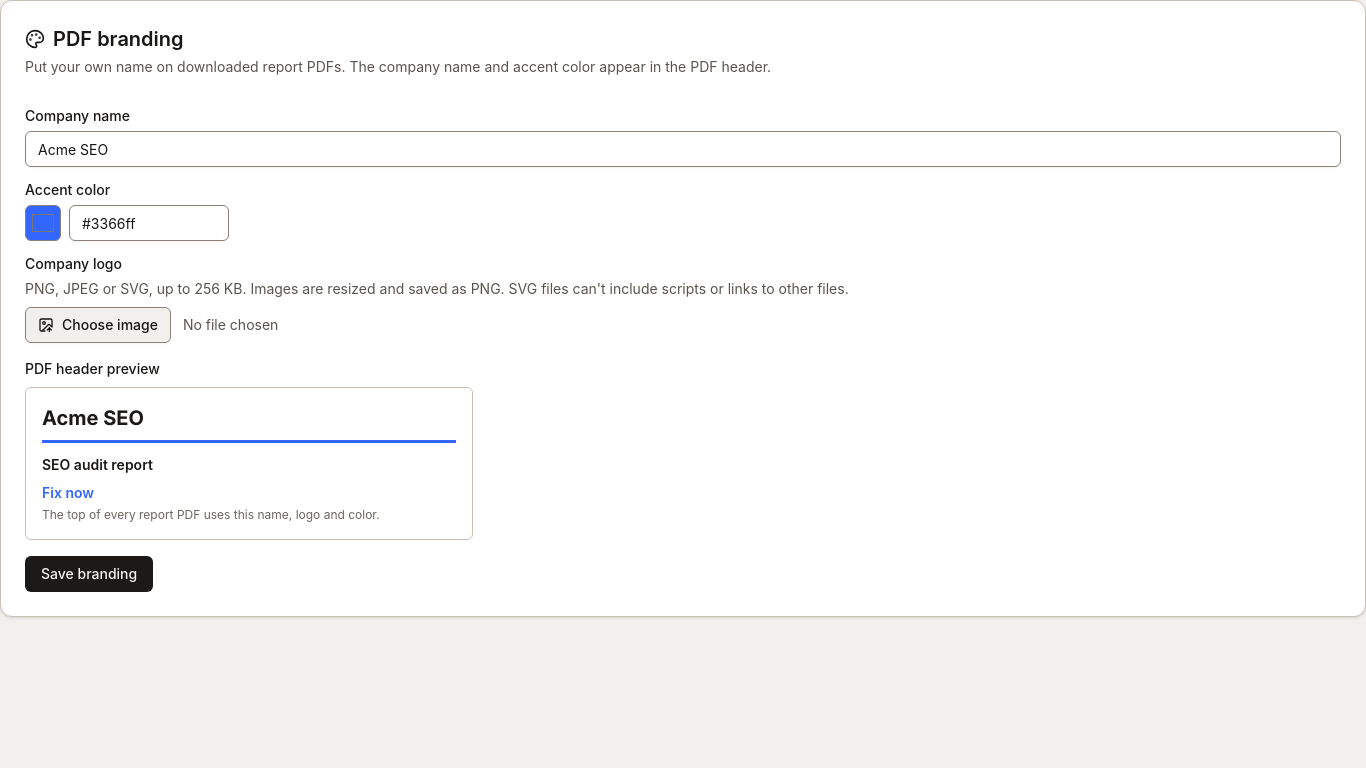
it: BrandingPanel › saves trimmed values and confirms
Replace the text in the field labelled "Company name" with "  New Name  " at (683, 149), box [25,131,1341,167]
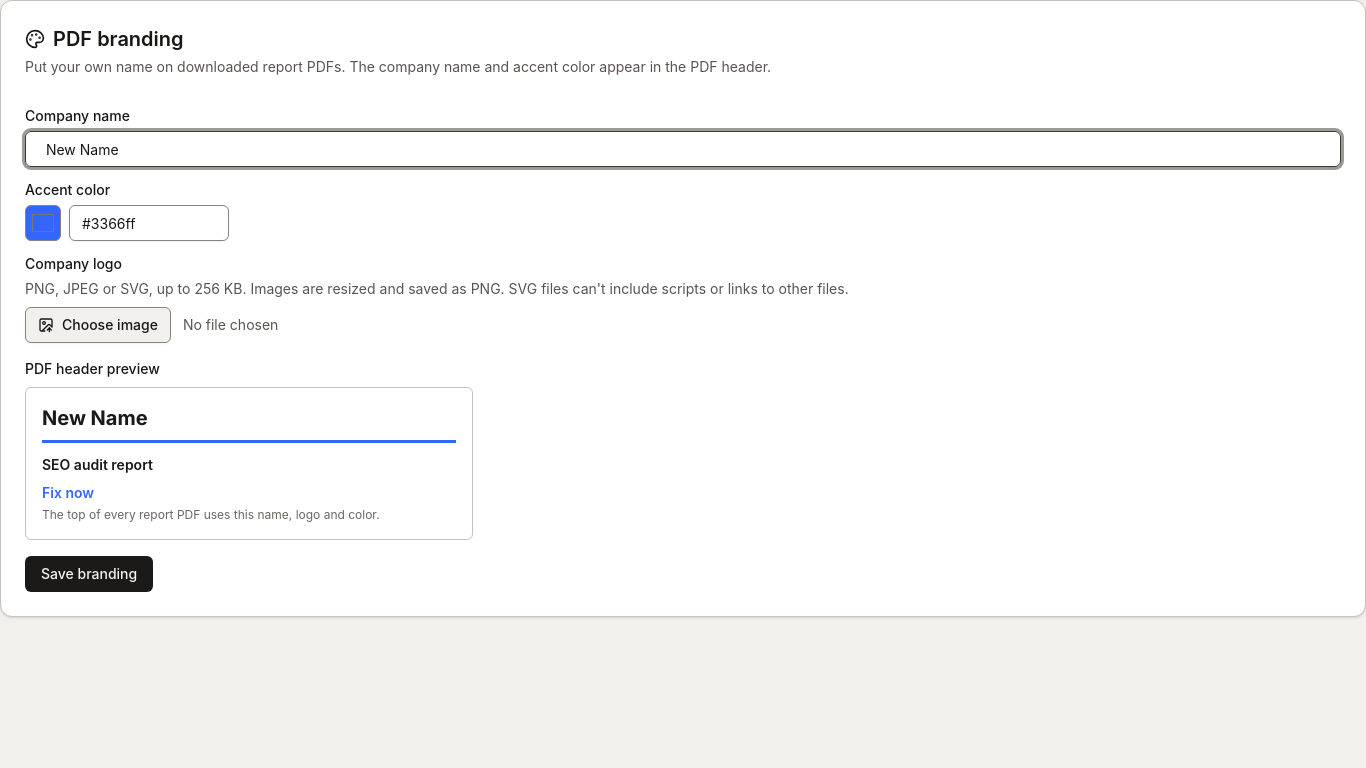
Replace the text in the field labelled "Accent color" with "#b5321e" at (149, 223), box [69,205,229,241]
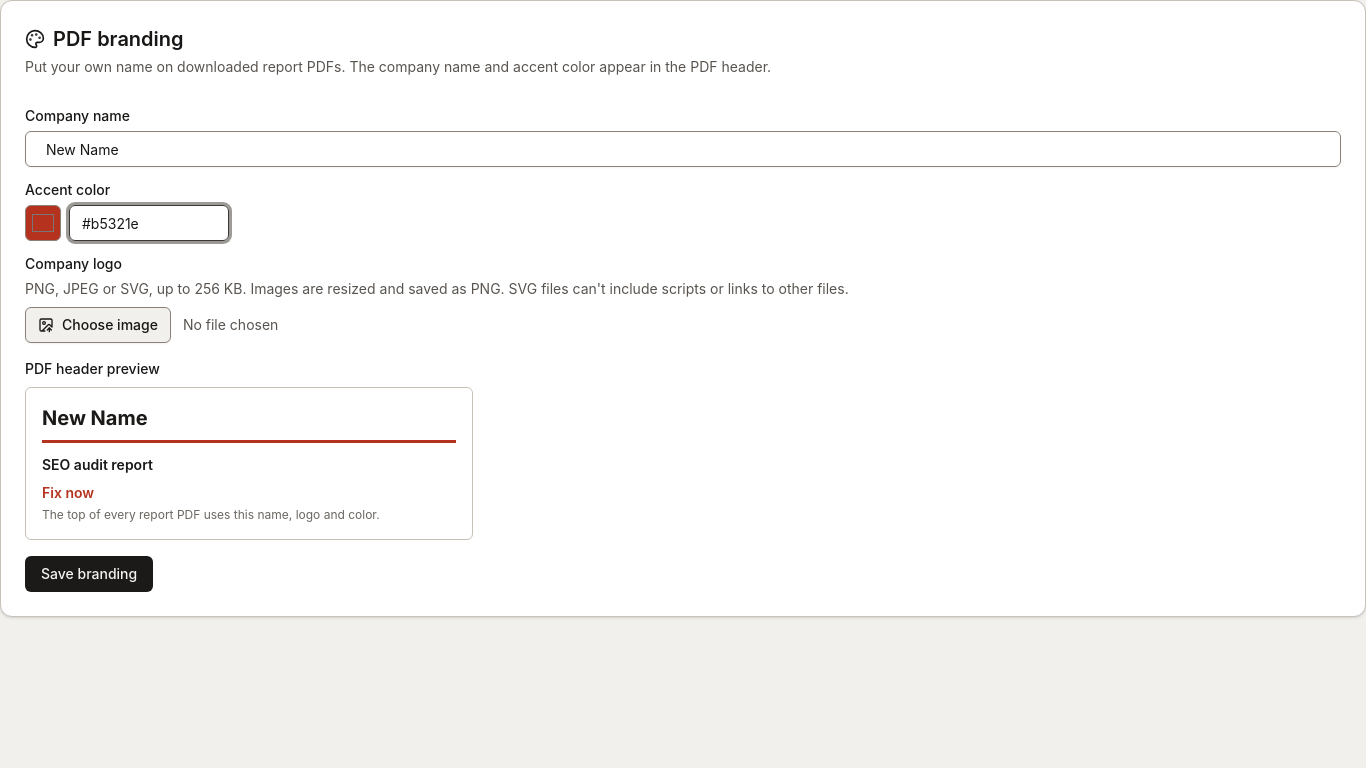
Click the button "Save branding" at (89, 574), box [25,556,153,592]
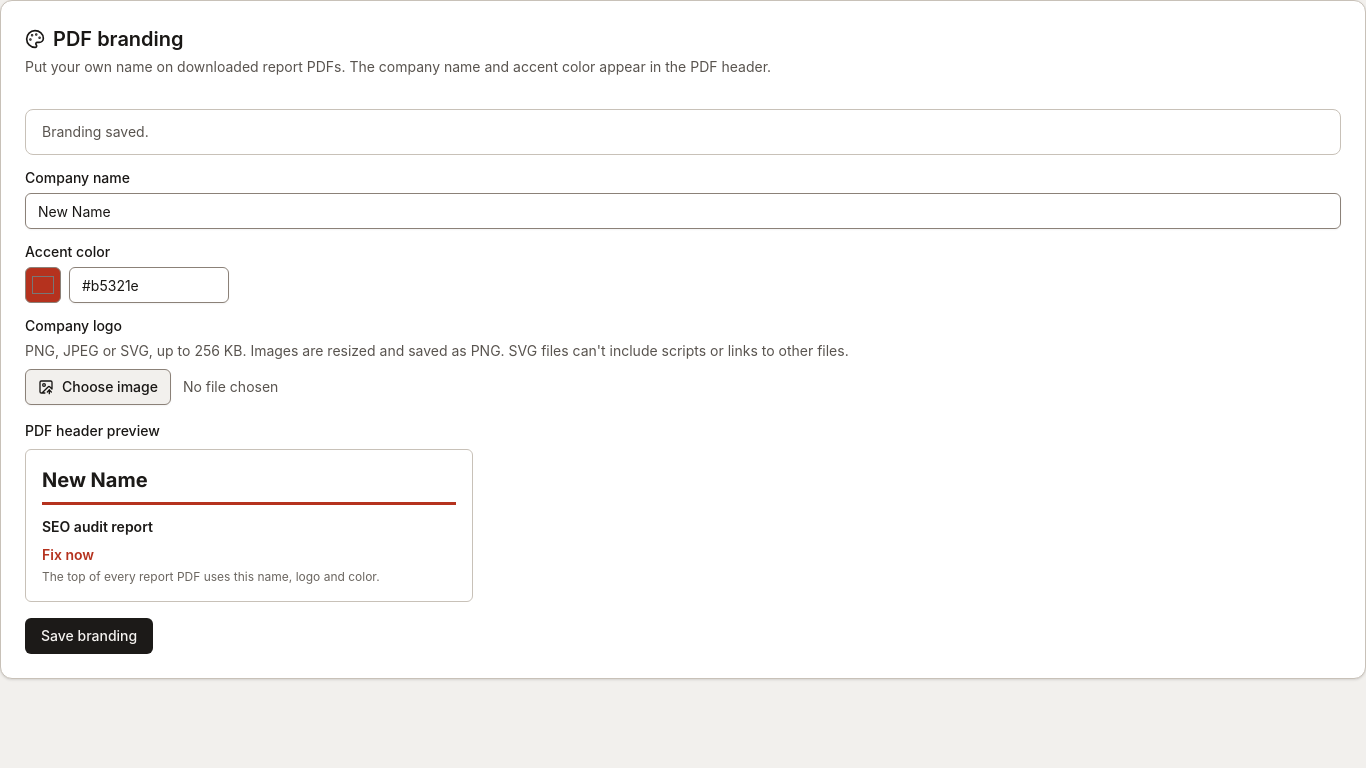
Result: the text "Branding saved." is shown at [42,123,149,140]
